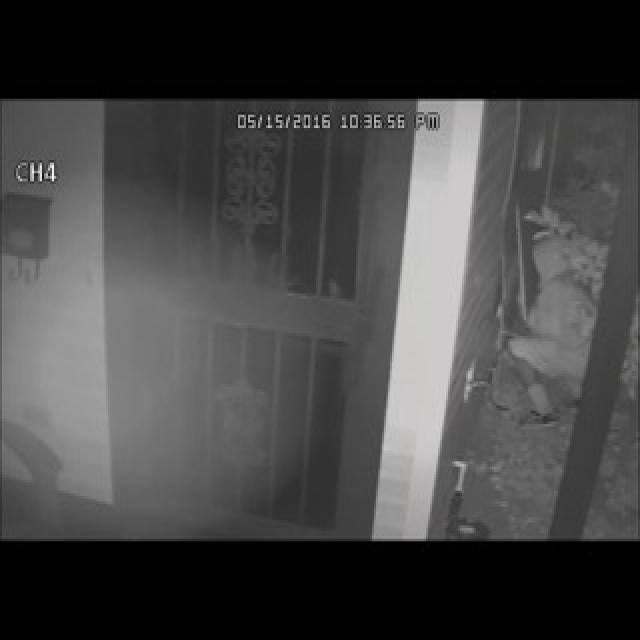thief: (522, 192, 610, 400)
